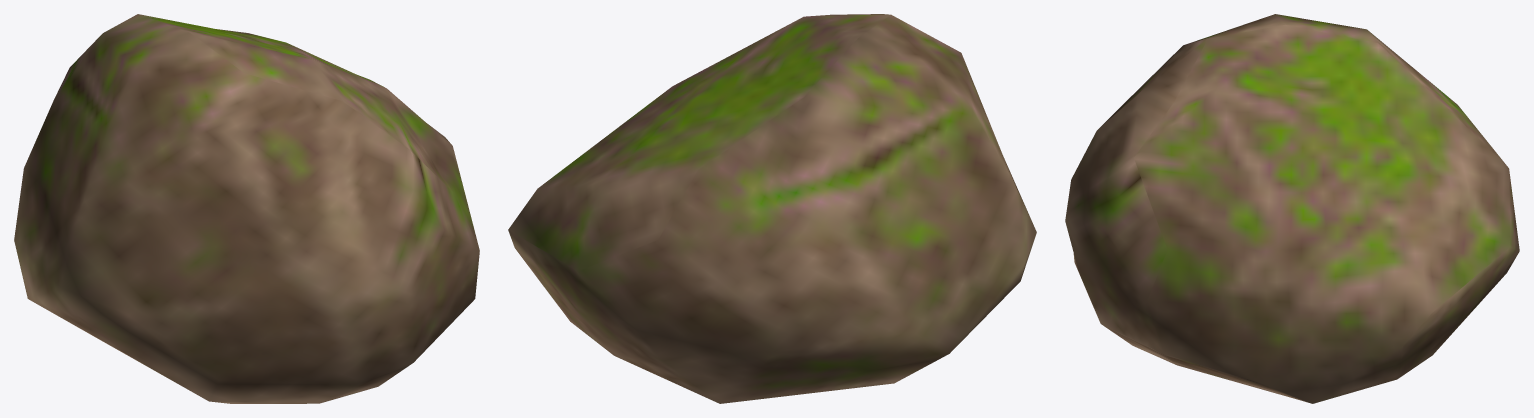
The model's file is sb_obj_nature006_Stone03c.fbx.
3 views of the same model, side by side, from view 1: azimuth 30°, elevation 25°; view 2: azimuth 150°, elevation 25°; view 3: azimuth 270°, elevation 25° (orthographic). The views are drawn at different scales.
Visible parts, largest first — view 1: sb_obj_nature006_Stone03c; view 2: sb_obj_nature006_Stone03c; view 3: sb_obj_nature006_Stone03c.
Part boxes in pixels (box(x1,y1,x2,y2)): sb_obj_nature006_Stone03c: box(14, 14, 479, 403); sb_obj_nature006_Stone03c: box(508, 14, 1036, 403); sb_obj_nature006_Stone03c: box(1065, 14, 1519, 403).
Size of the model in its own units: 0.5292 by 0.39 by 0.5566.
